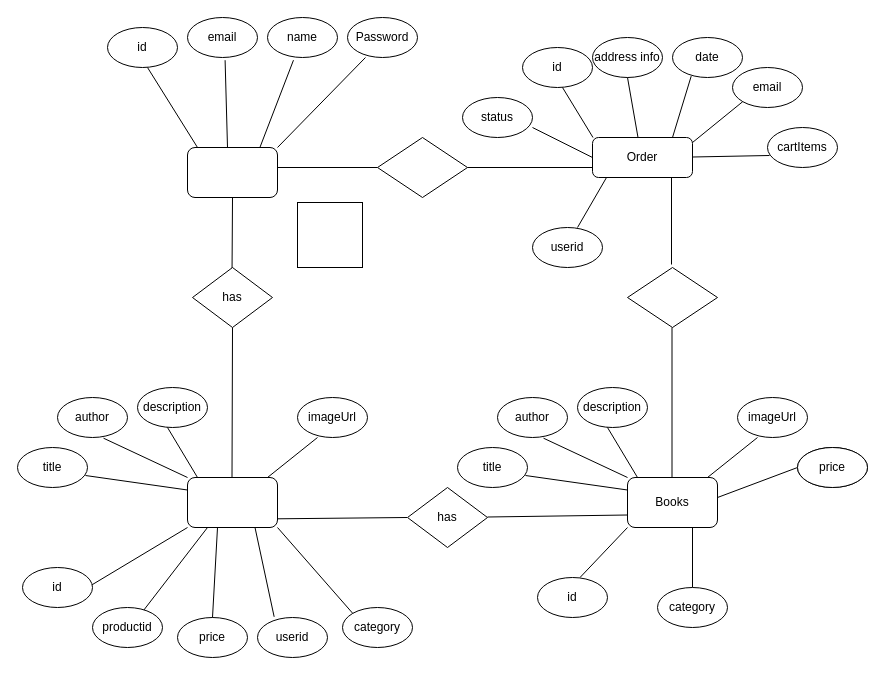
Image size: 885x675. Some labels were removed from this diagram. The centre of each missing label's shape, as x and y in pixels:
"Creates Order" goes at [422,167].
"Includes Product" goes at [672,297].
"userid wishlistid" goes at [329,235].
"Users" goes at [232,172].
"wishlist" goes at [232,502].
